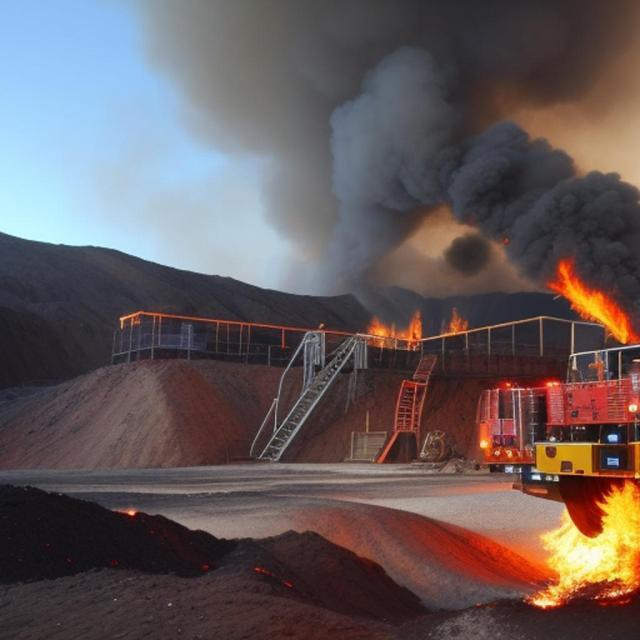Fire: (531, 478, 640, 607), (541, 258, 640, 345), (366, 316, 472, 348)
Smoke: (140, 7, 640, 296)
